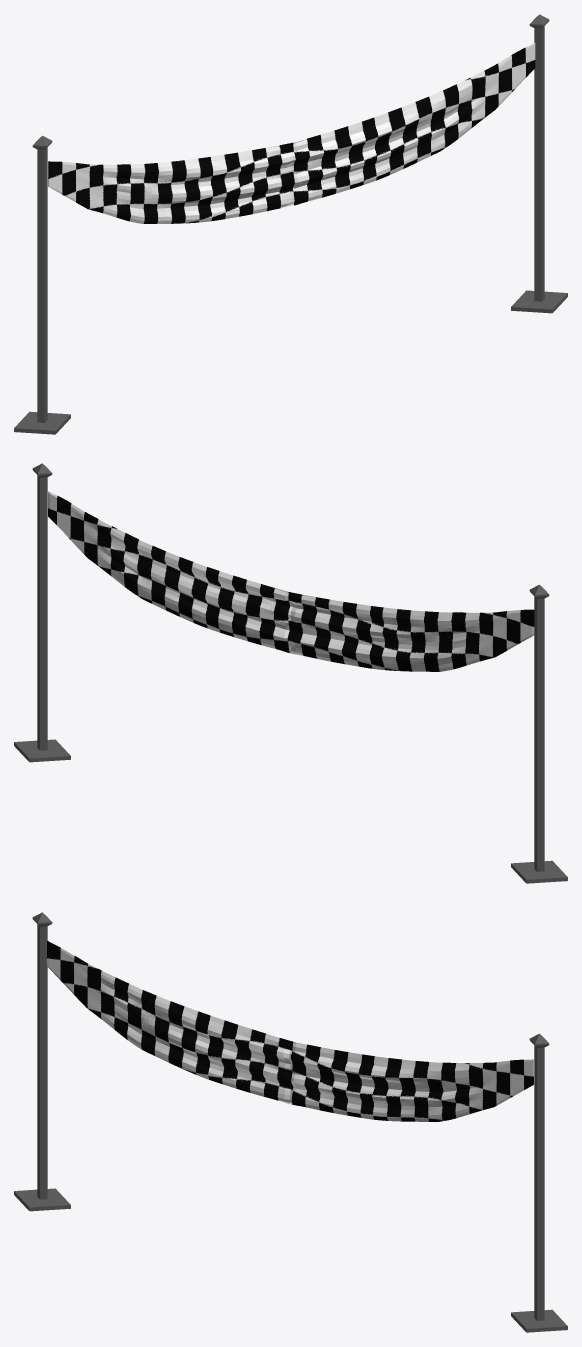
3 renders of one model, top to bottom at view 1: azimuth 30°, elevation 25°; view 2: azimuth 150°, elevation 25°; view 3: azimuth 330°, elevation 25°, orthographic.
Visible parts, largest first — view 1: Cylinder, Cylinder.001; view 2: Cylinder, Cylinder.001; view 3: Cylinder, Cylinder.001.
Boxes of the visible parts, bbox=[...] form: Cylinder: bbox=[48, 42, 535, 223]; Cylinder.001: bbox=[14, 14, 567, 434]; Cylinder: bbox=[48, 491, 534, 671]; Cylinder.001: bbox=[14, 463, 567, 883]; Cylinder: bbox=[46, 940, 533, 1121]; Cylinder.001: bbox=[14, 912, 567, 1332].
Bounding box in the file's own units: 724 × 362 × 59.17.
2 materials, 1 textured.
